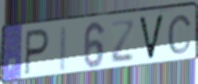6: (82, 20, 106, 70)
C: (166, 14, 193, 56)
I: (57, 24, 69, 74)
P: (23, 27, 51, 78)
V: (137, 13, 166, 63)
Z: (110, 20, 136, 66)
